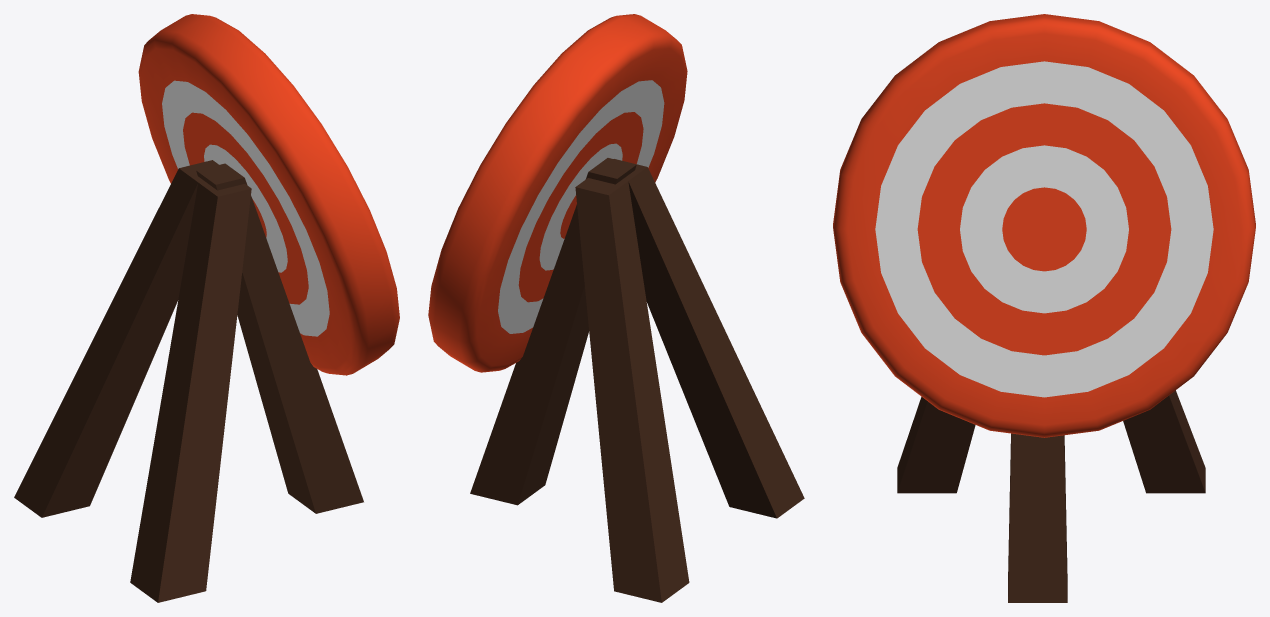
File: Archer Shield 1.fbx
The picture shows the model from 3 angles, left to right: view 1: azimuth 30°, elevation 25°; view 2: azimuth 150°, elevation 25°; view 3: azimuth 270°, elevation 25°; orthographic projection. The views are drawn at different scales.
Visible parts, largest first — view 1: Archer Shield 1; view 2: Archer Shield 1; view 3: Archer Shield 1.
Boxes of the visible parts, x1,y1,x2,y2 form: Archer Shield 1: (14, 14, 399, 602); Archer Shield 1: (428, 14, 804, 602); Archer Shield 1: (833, 14, 1255, 602).
Size of the model in its own units: 0.3377 by 0.611 by 0.4476.
